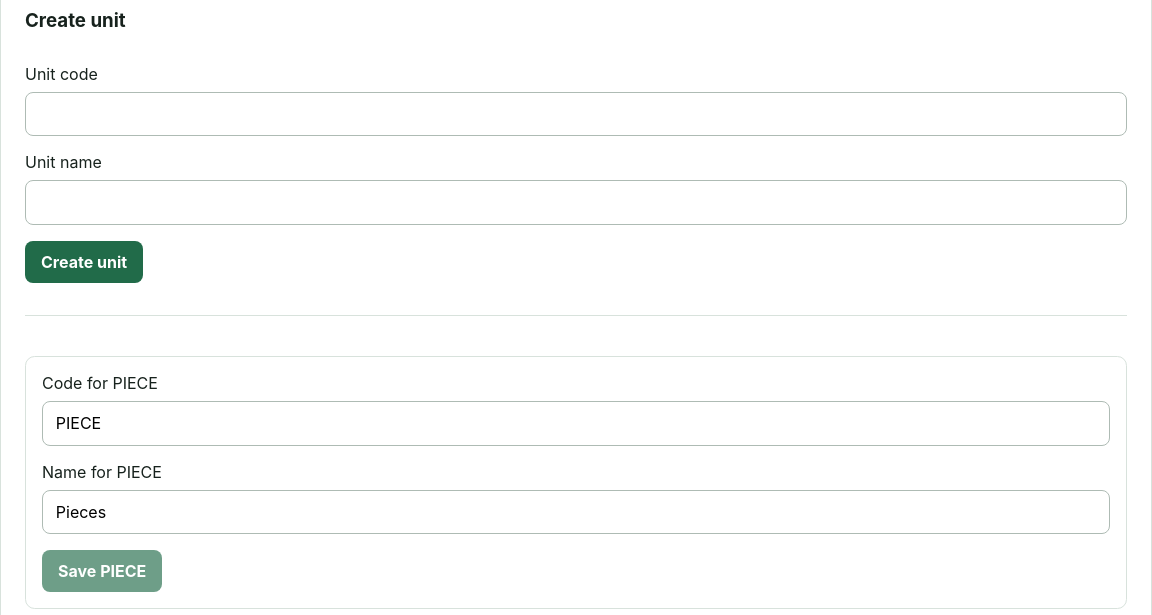
Test: catalog management › creates units and products
Type "PALLET" into the field labelled "Unit code".
click(576, 114); type("PALLET")  # box [25, 92, 1127, 136]
Type "Pallets" into the field labelled "Unit name".
click(576, 203); type("Pallets")  # box [25, 180, 1127, 225]
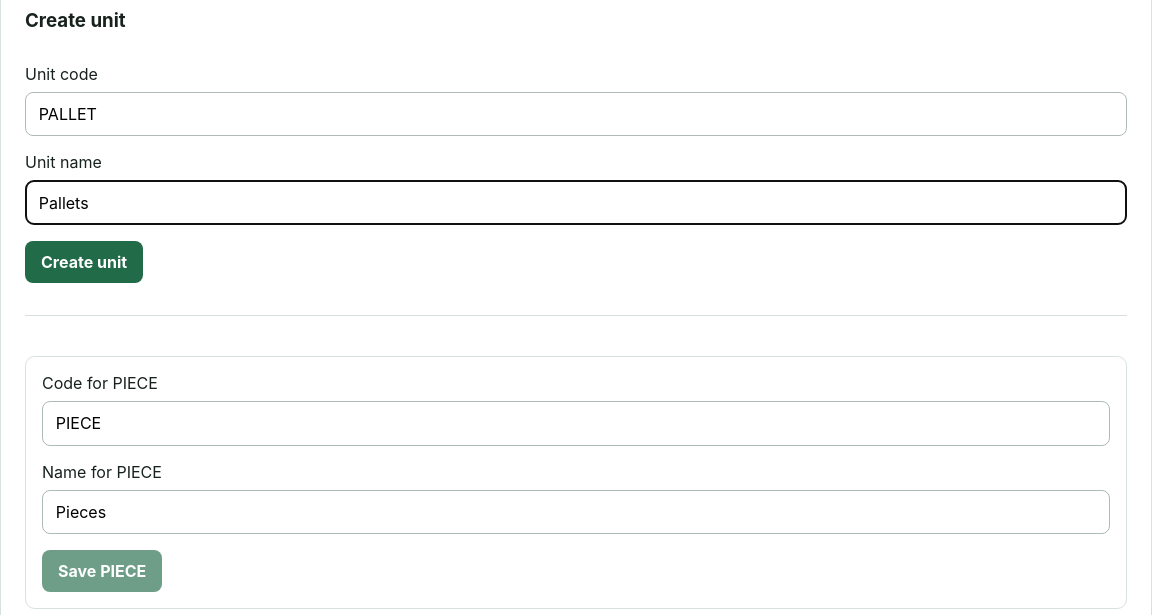
Click the button "Create unit".
click(84, 262)  # box [25, 241, 143, 283]
(page scrolled)
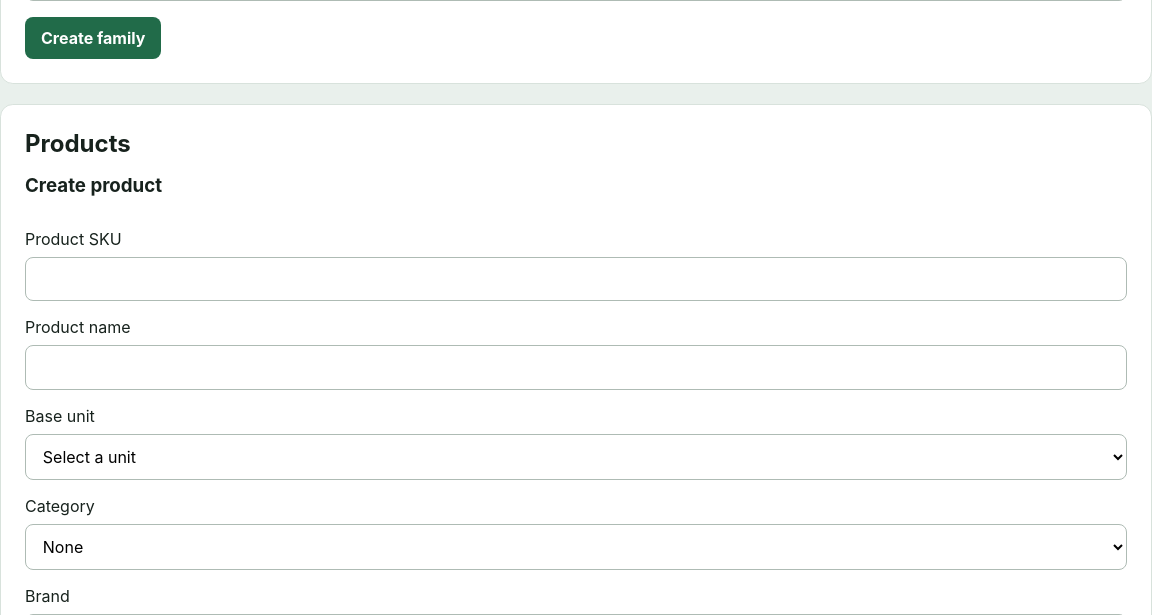
Type "RICE" into the field labelled "Product SKU".
click(576, 279); type("RICE")  # box [25, 257, 1127, 301]
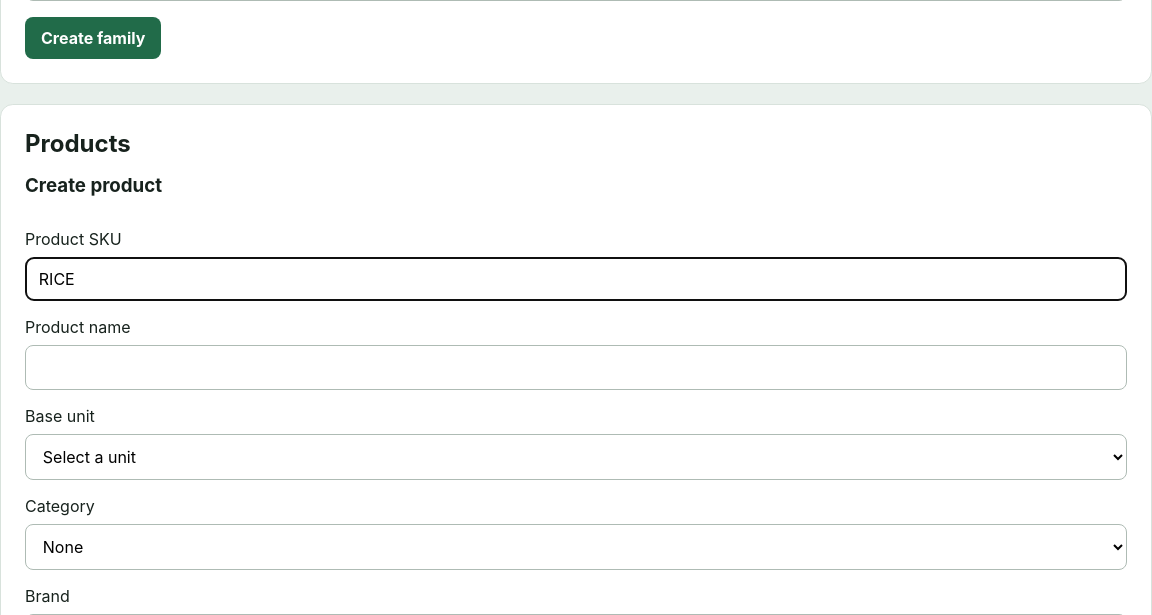
Type "Rice" into the field labelled "Product name".
click(576, 368); type("Rice")  # box [25, 345, 1127, 390]
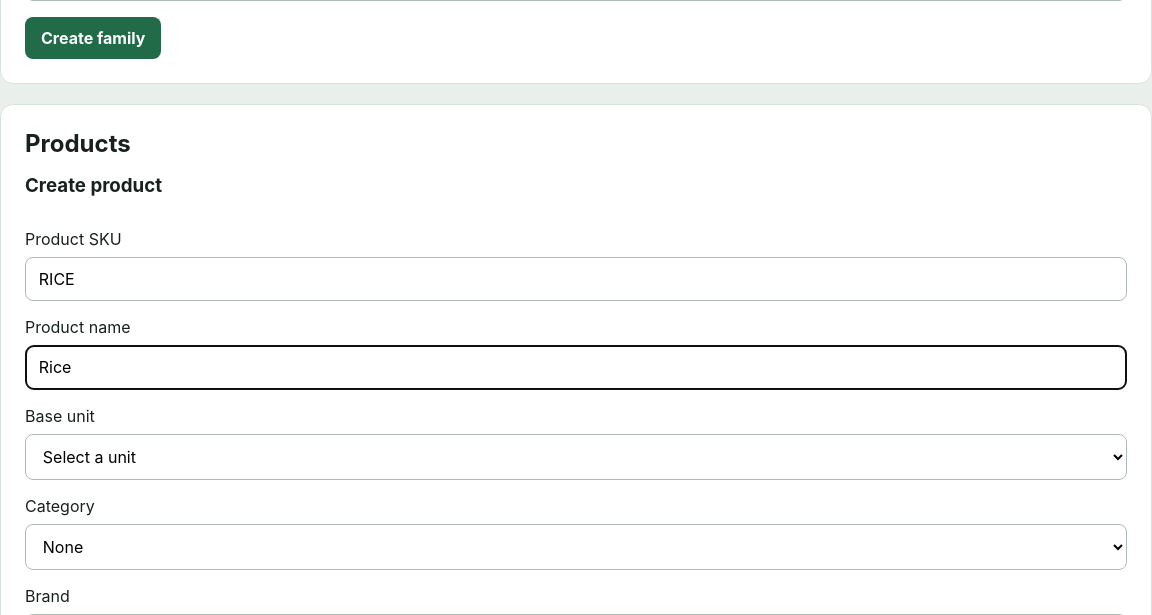
Select "PIECE — Pieces" in the dropdown labelled "Base unit" at (576, 457), box [25, 434, 1127, 480]
(page scrolled)
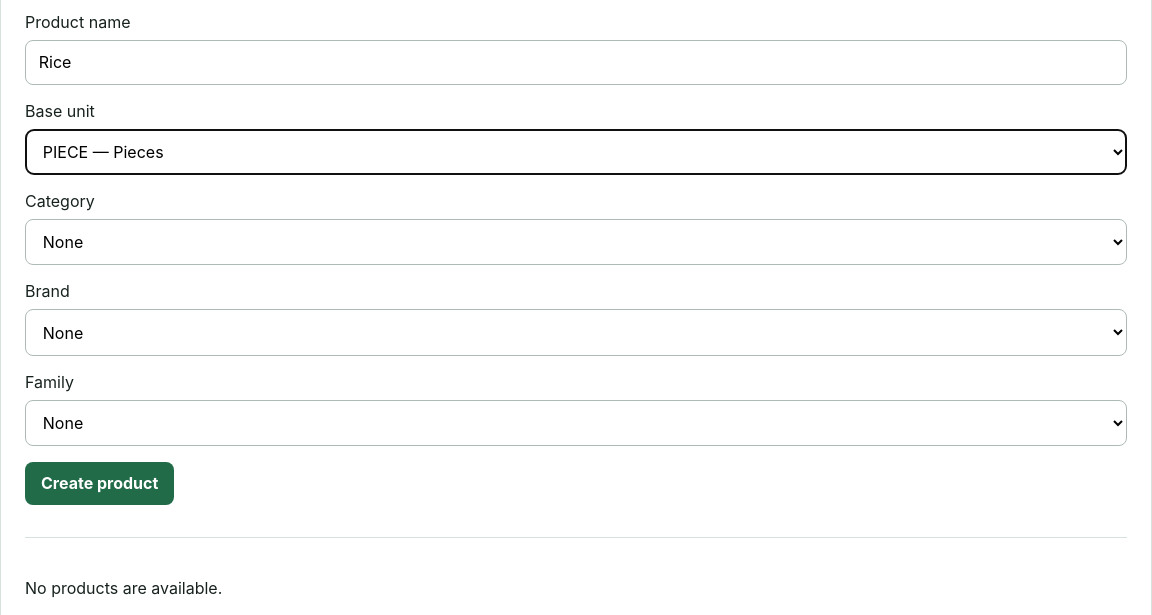
Click the button "Create product".
click(100, 483)  # box [25, 462, 174, 504]
(page scrolled)
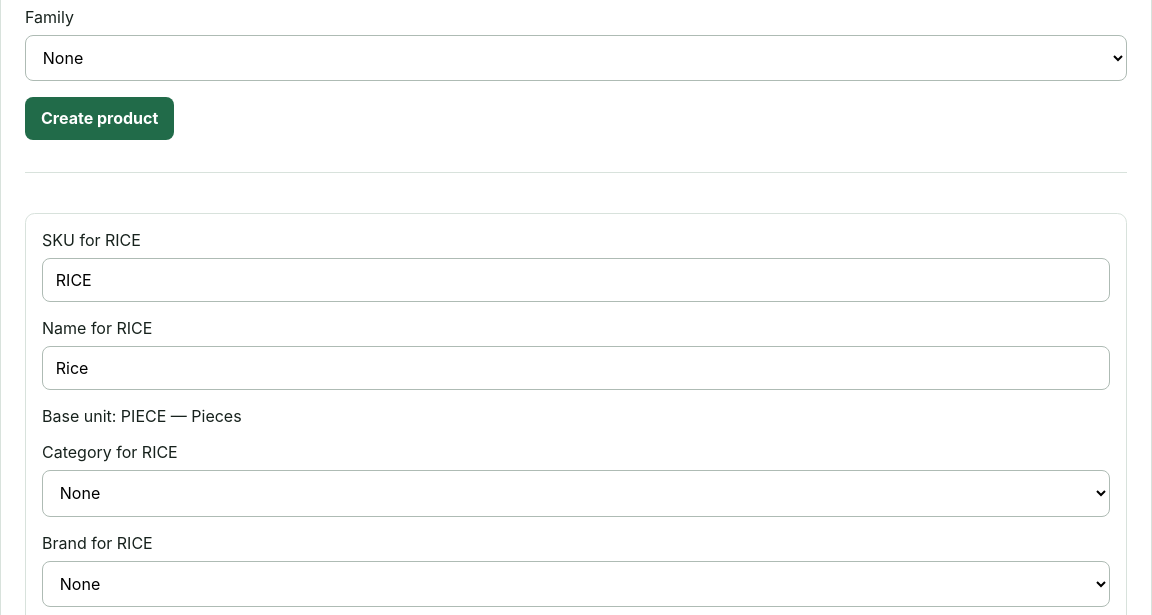
Expected: the field showing "RICE" is shown, [42, 258, 1110, 302]
